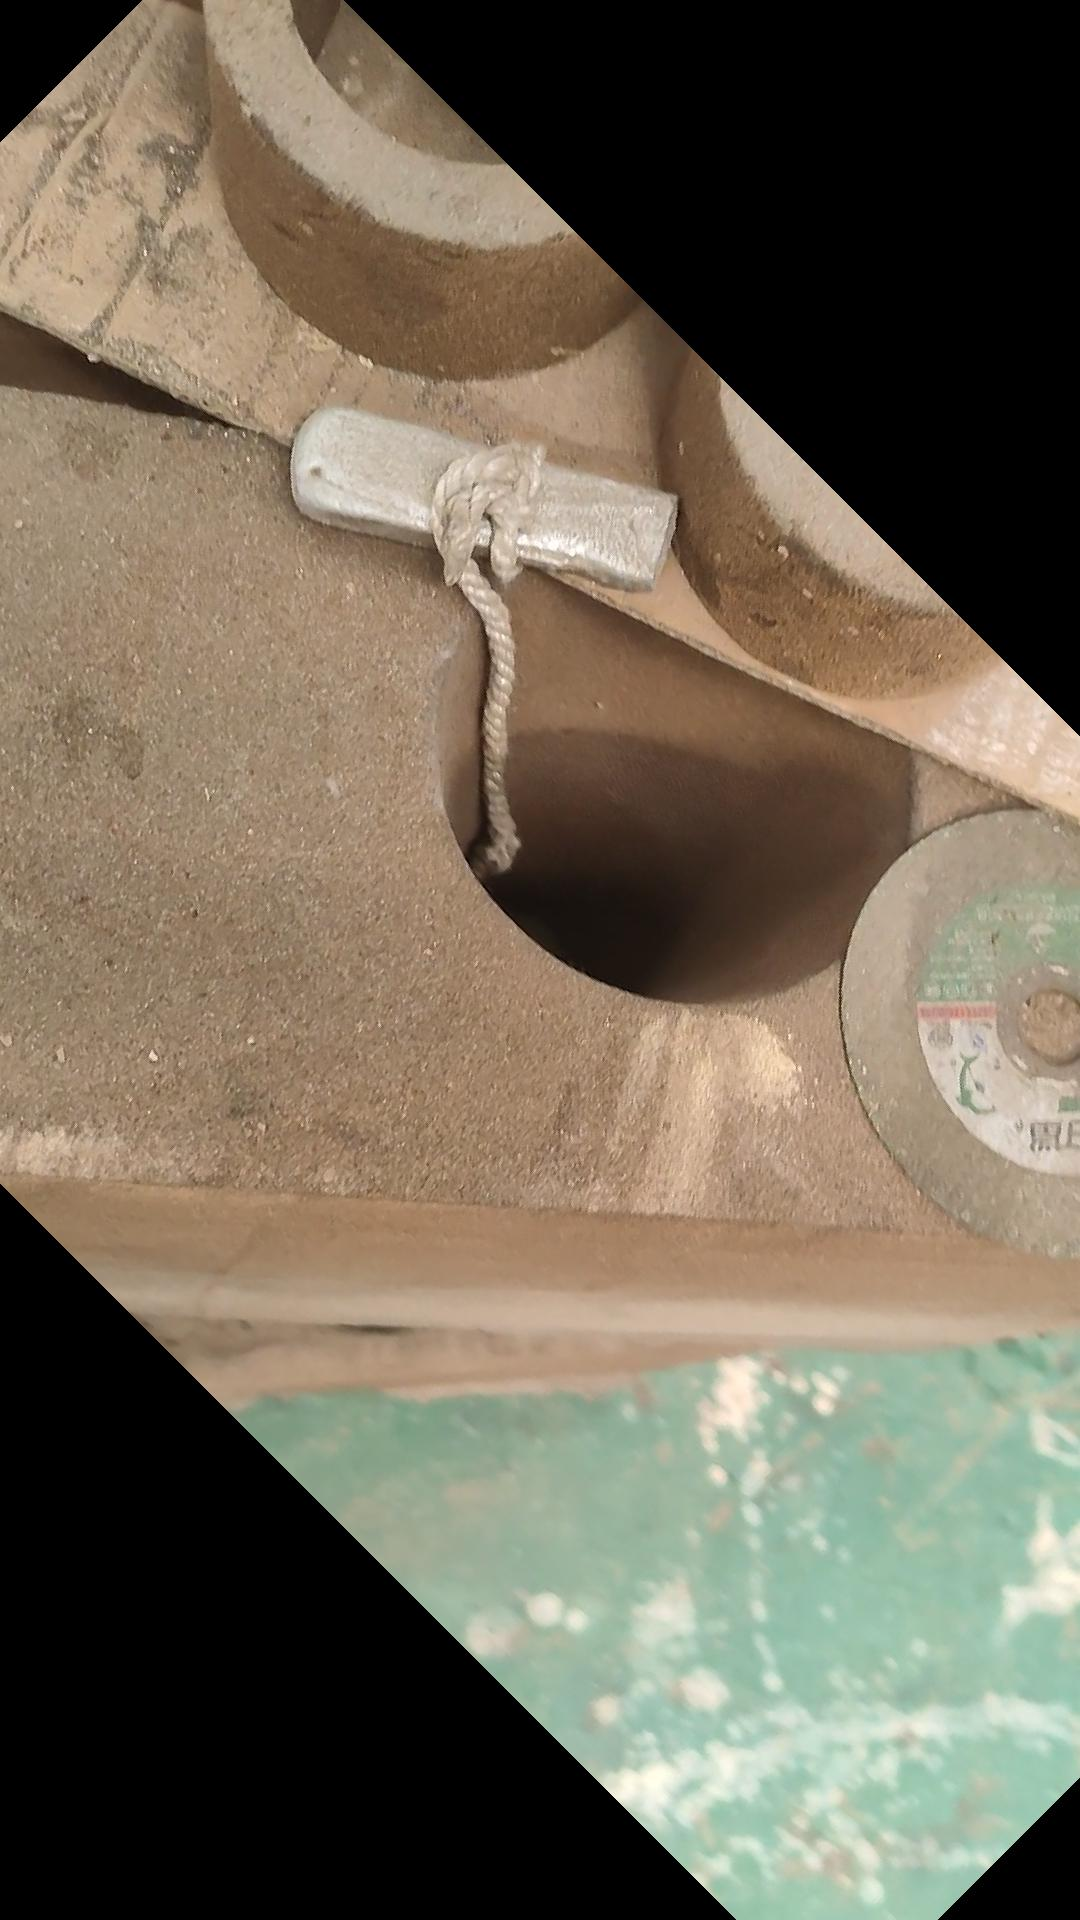pouring hole: (433, 510, 916, 1007)
